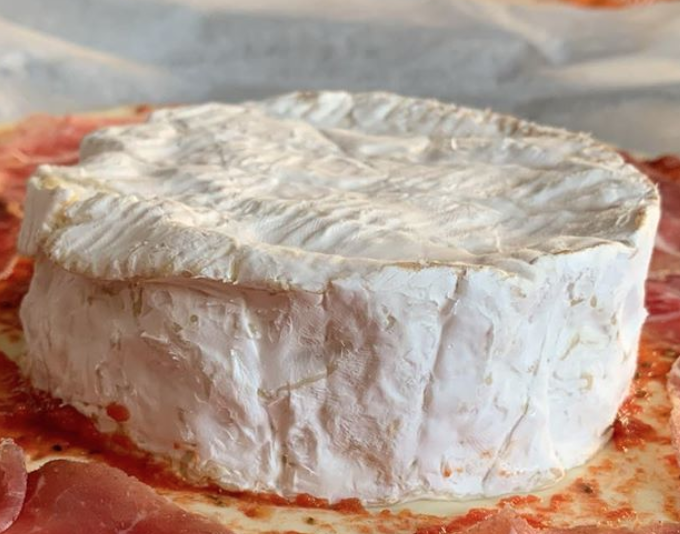camembert: (17, 90, 665, 504)
